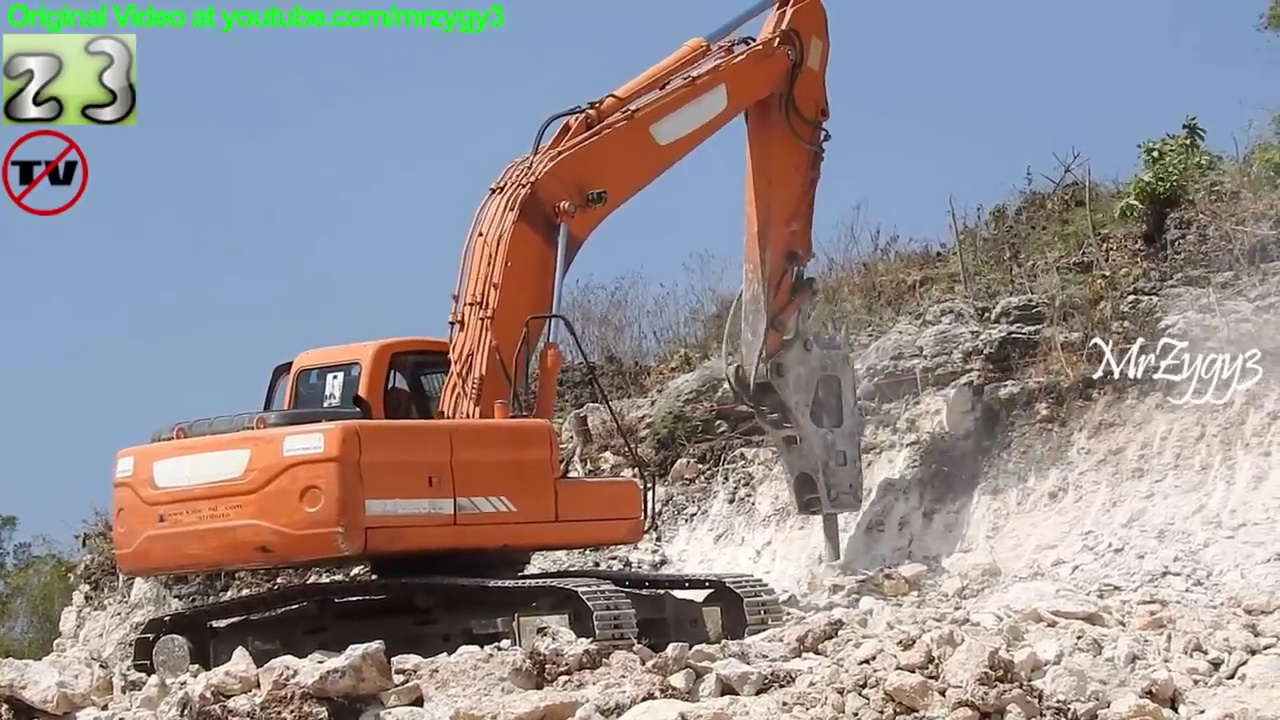excavator breaker: (100, 1, 879, 689)
